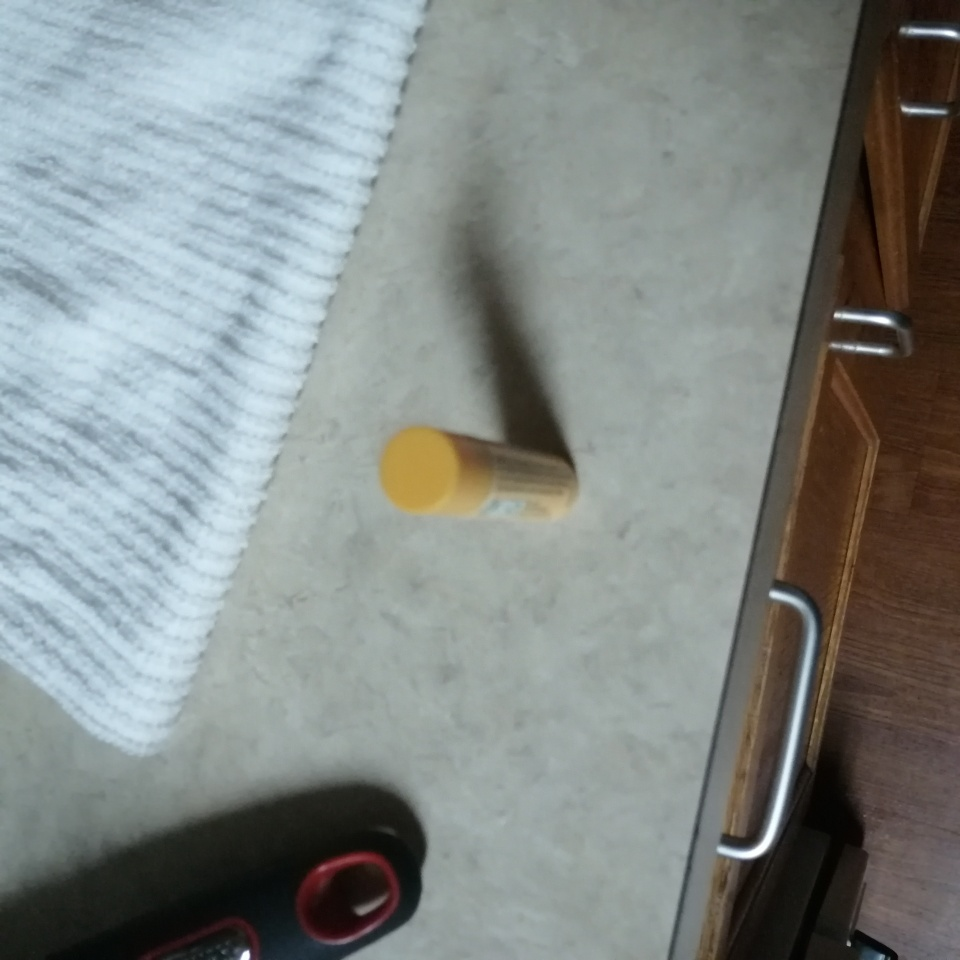chapstick: (379, 426, 579, 527)
